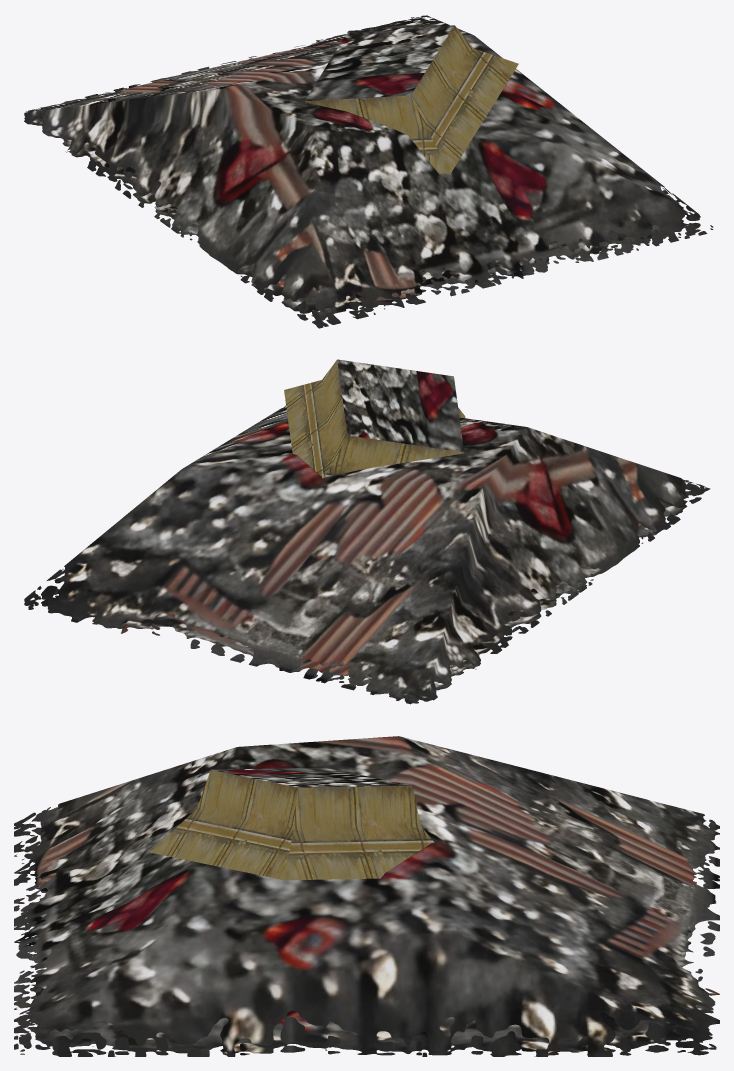
File: l_palacetwr_dam_hdtex.glb
The picture shows the model from 3 angles, top to bottom: view 1: azimuth 30°, elevation 25°; view 2: azimuth 150°, elevation 25°; view 3: azimuth 270°, elevation 25°; orthographic projection. The views are drawn at different scales.
Parts seen in each view (by area): view 1: palace_twrDAM; view 2: palace_twrDAM; view 3: palace_twrDAM.
Part boxes in pixels (bbox=[...]): palace_twrDAM: bbox=[24, 15, 713, 328]; palace_twrDAM: bbox=[24, 359, 710, 704]; palace_twrDAM: bbox=[14, 736, 719, 1056].
Bounding box in the file's own units: 12.73 × 4.57 × 15.91.
Materials: 2 (2 with a texture image).
